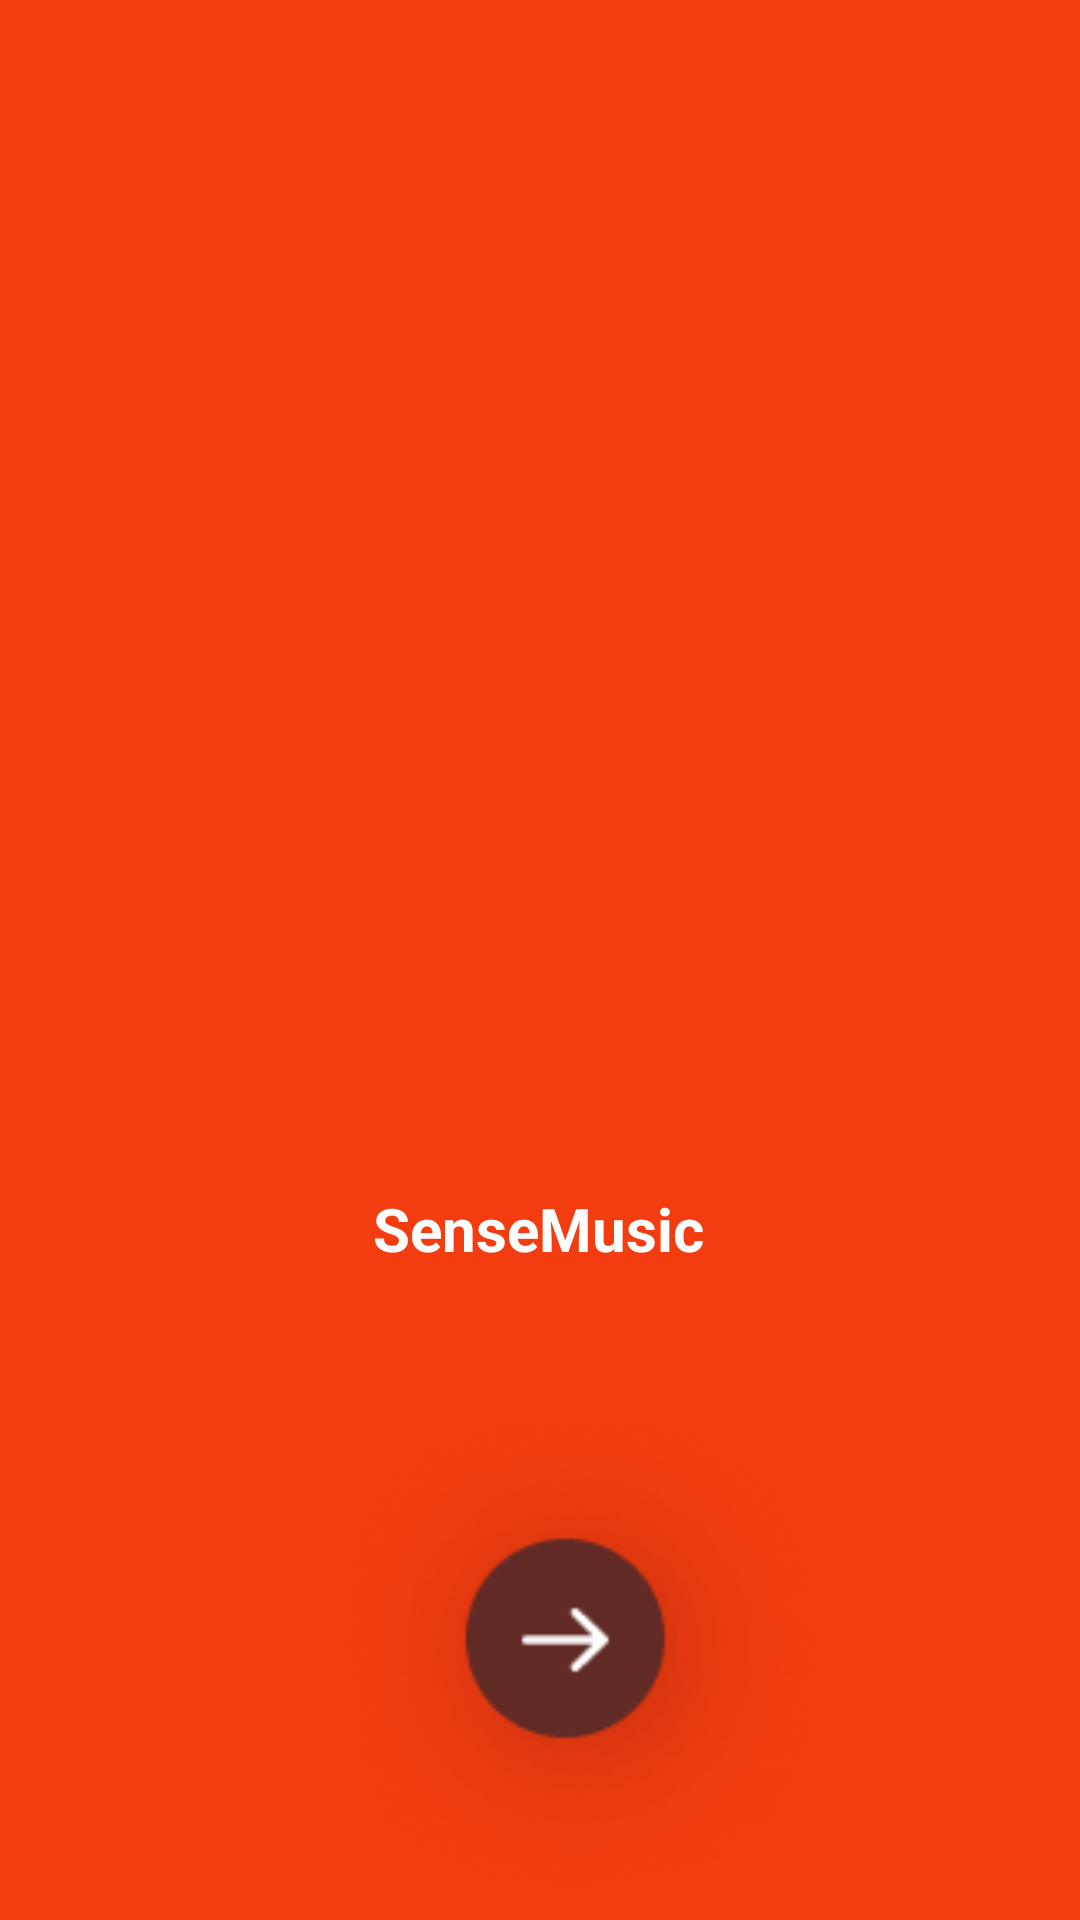

Screen size 1080*1920. Icon name, then its center in pixels as (x,y):
get started: (565,1638)
